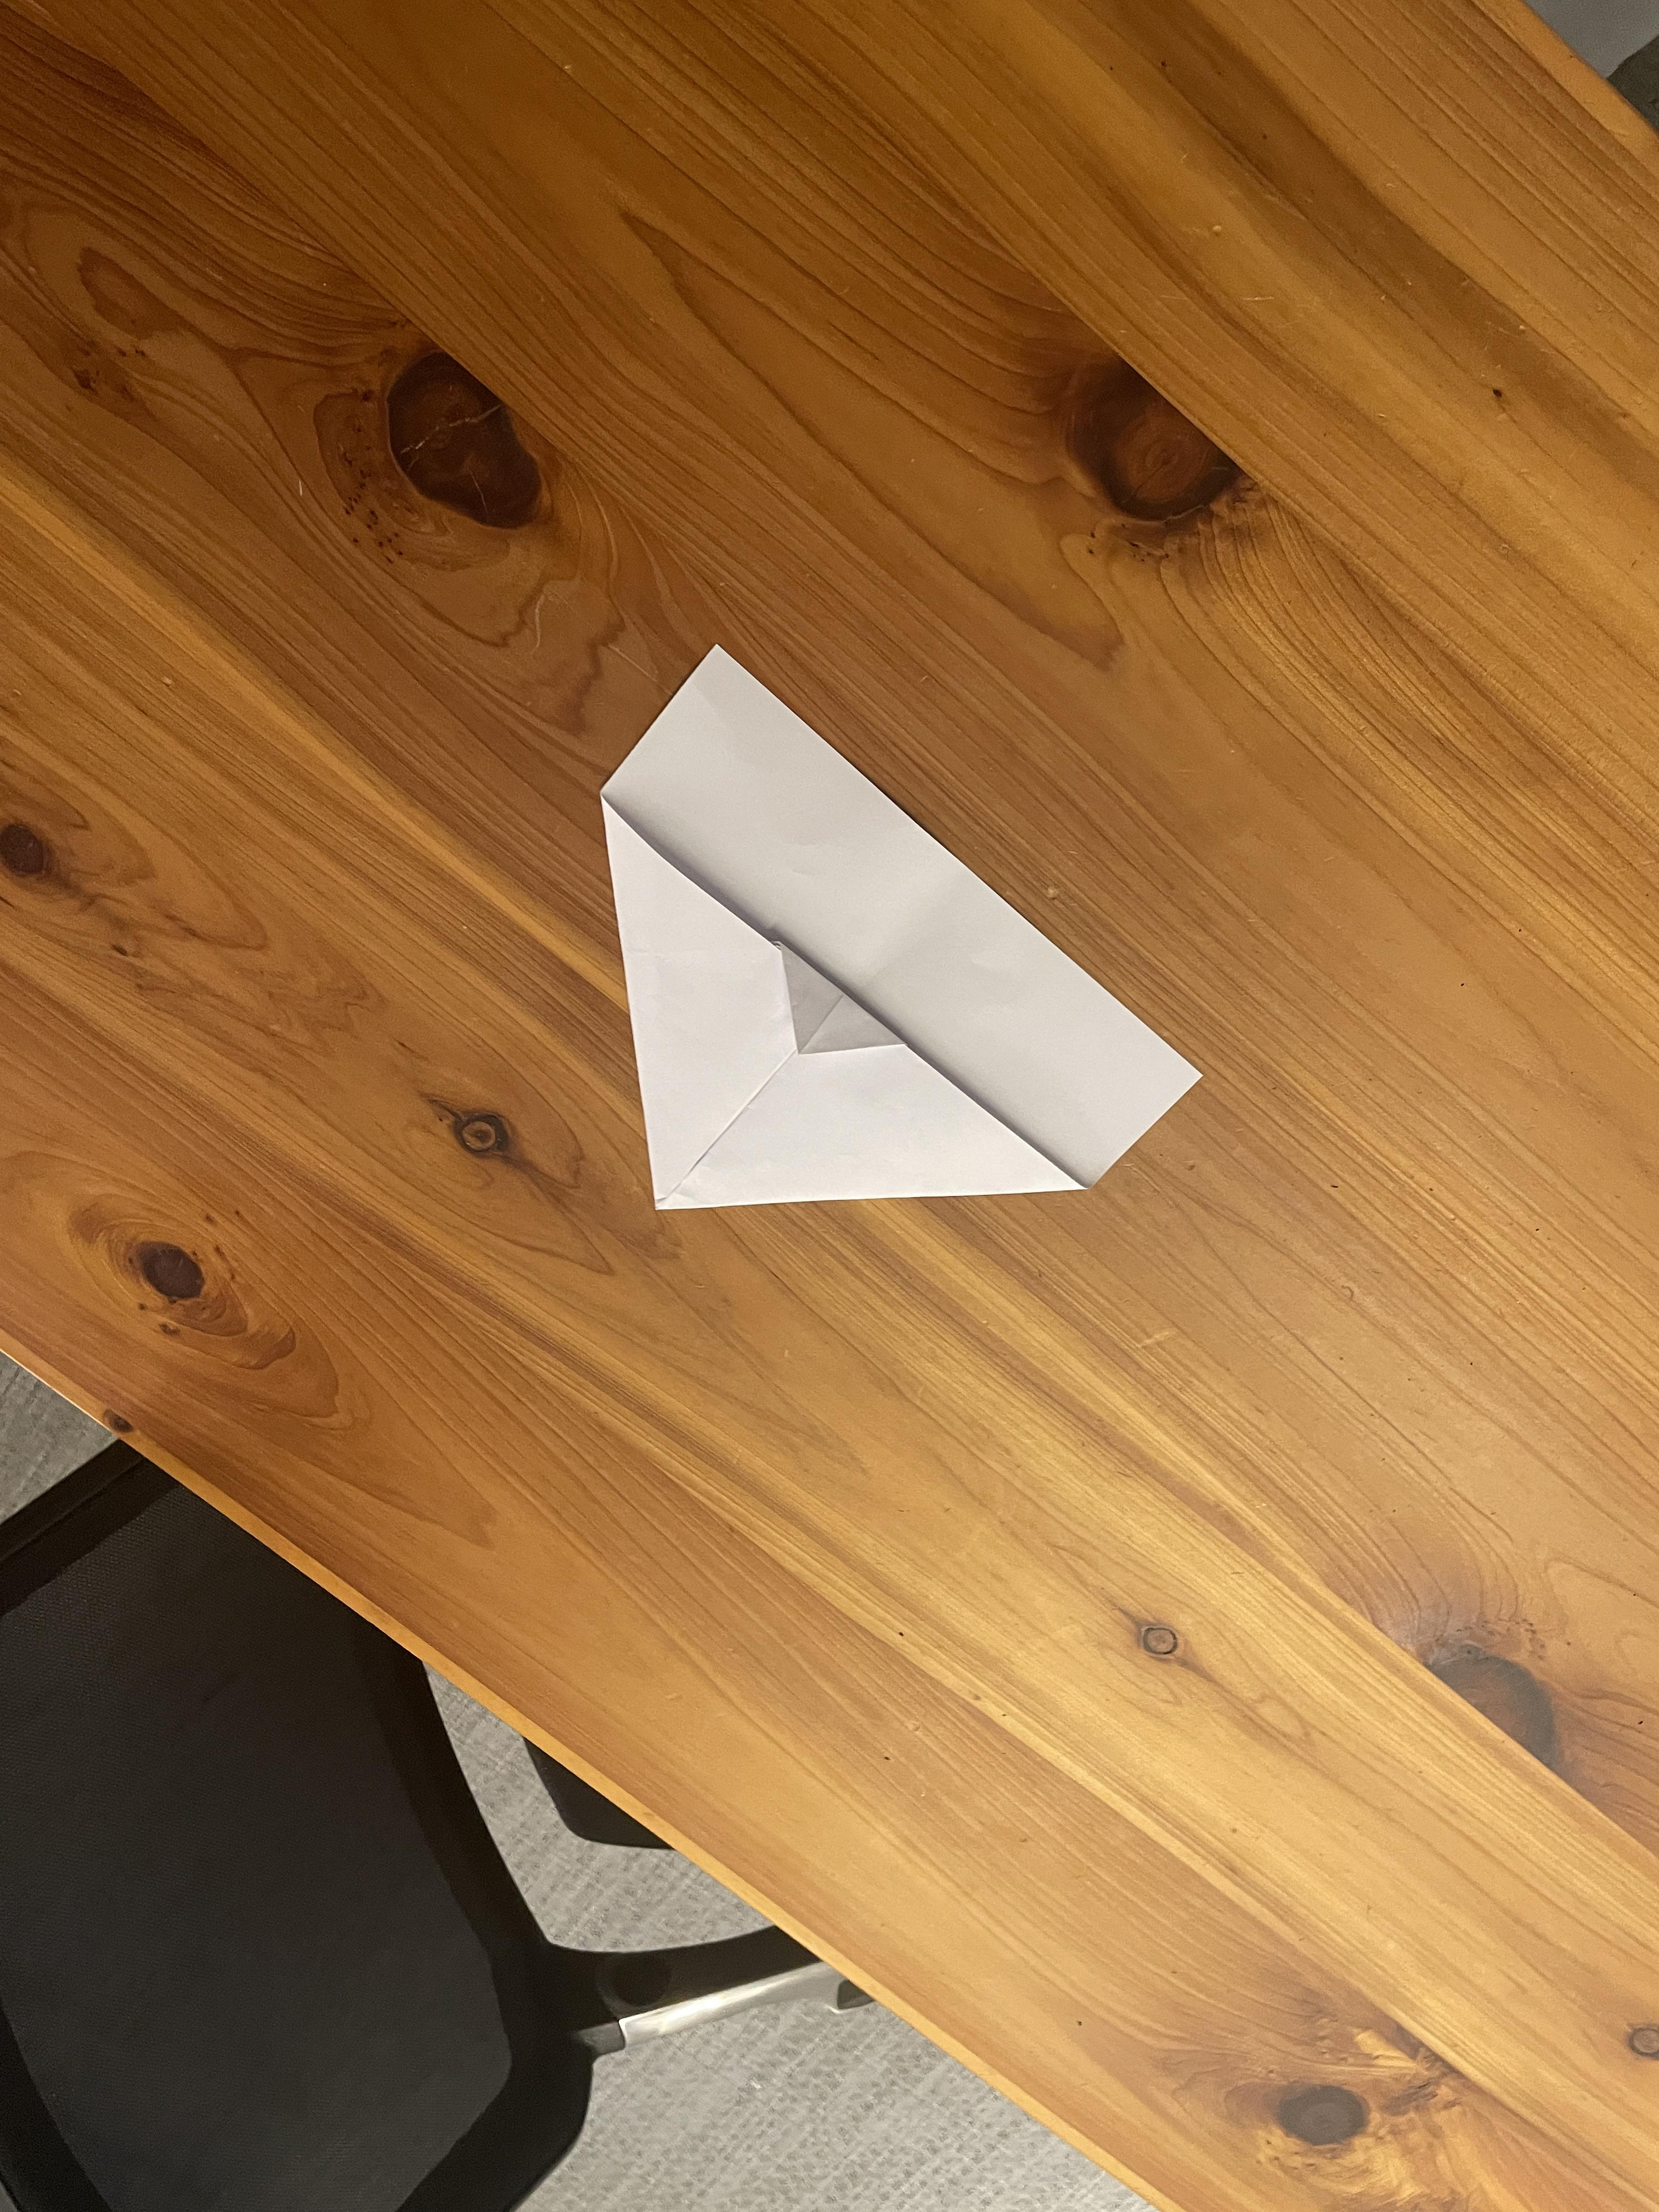shape_2: (378, 561, 1290, 1442)
